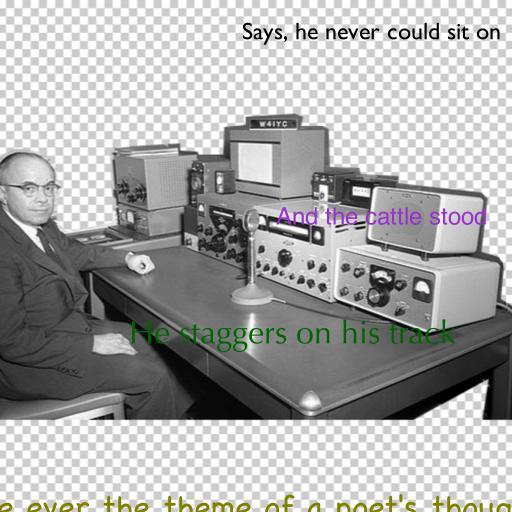Chalkboard: (0, 493, 512, 512)
Gill Sans: (241, 22, 501, 45)
Helvetica: (275, 207, 487, 225)
Optima: (128, 319, 456, 352)
